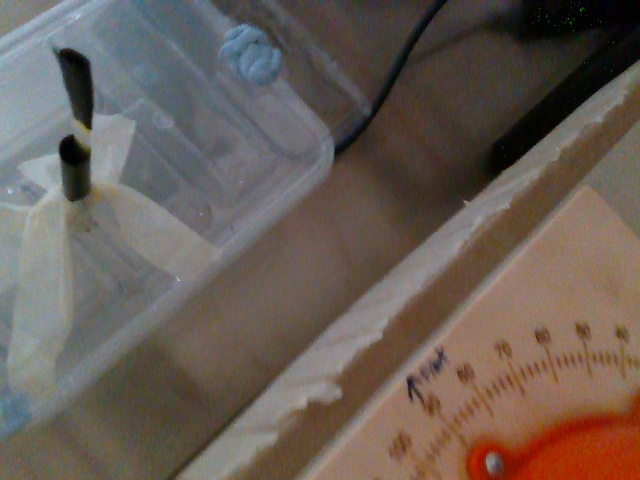test_strip: (46, 40, 95, 152)
